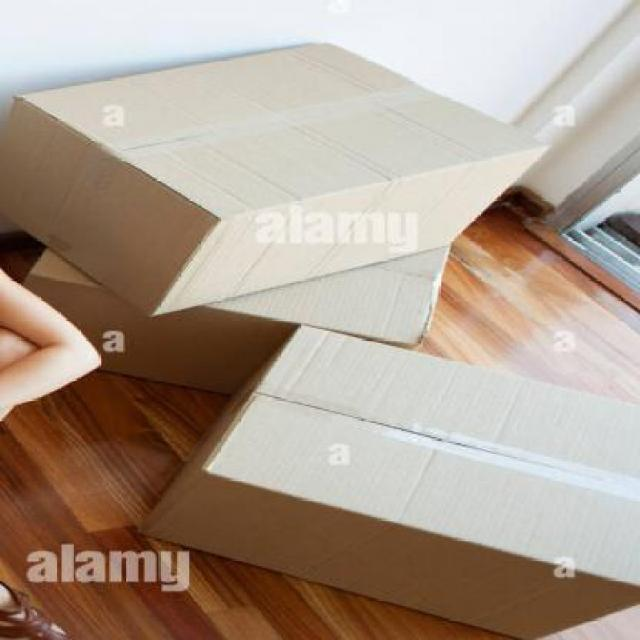box: (138, 321, 639, 640), (0, 41, 548, 321), (21, 242, 455, 390)
